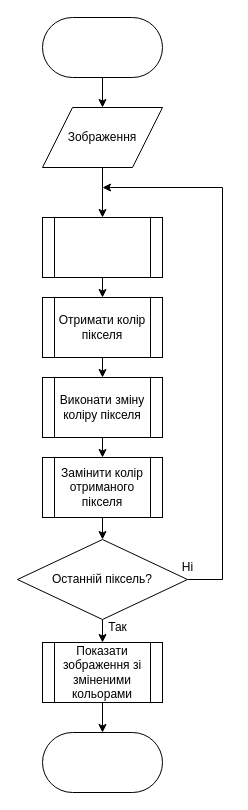
Image size: 248x810. Some labels were removed from this diagram. The centre of each missing label's shape, as x and y in pixels:
Кінець: point (102, 762)
Обрати наступний піксель зображення: point (102, 247)
Початок: point (102, 47)
